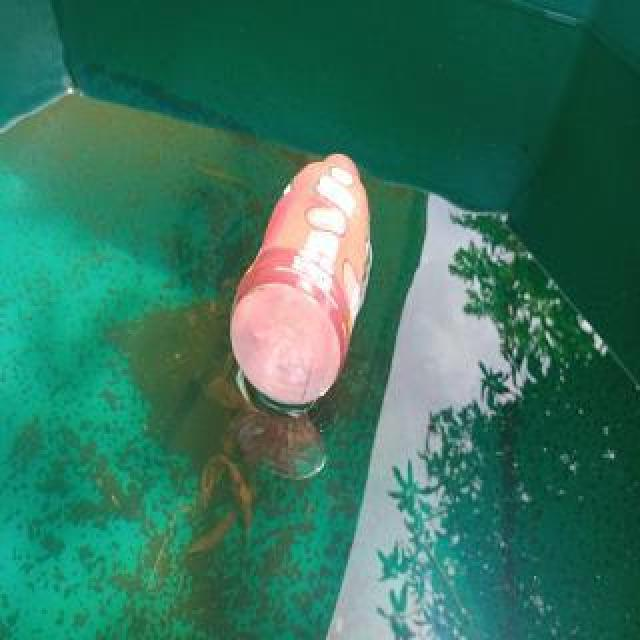Bottle: (228, 150, 382, 410)
